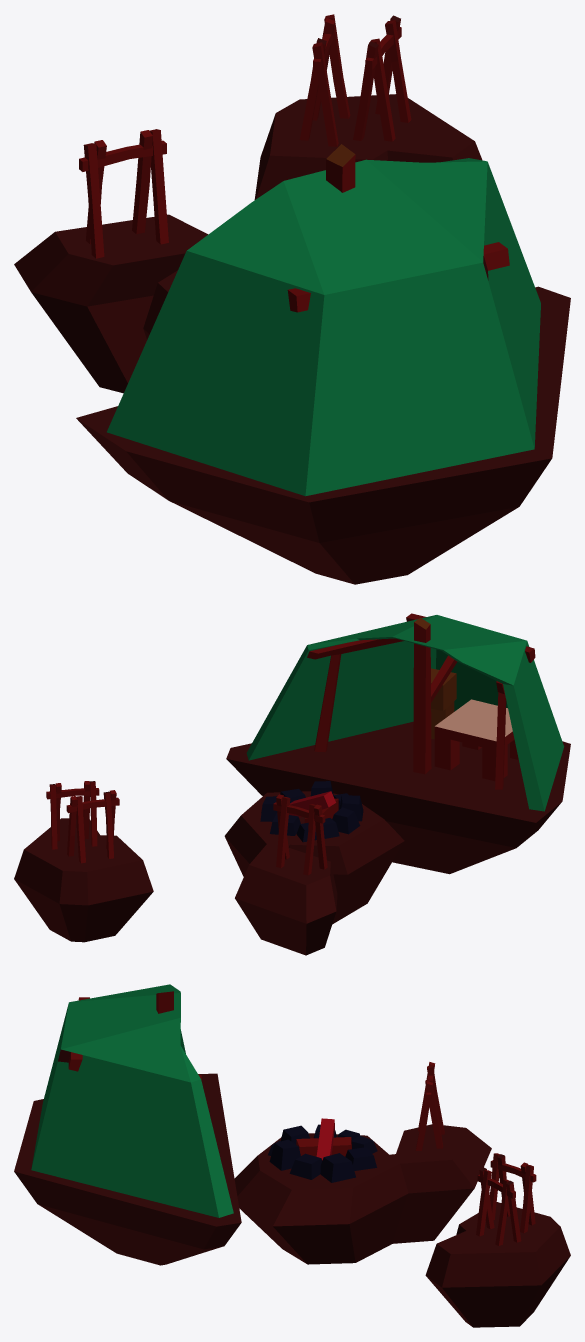
Rendered from leatherworker.glb.
The picture shows the model from 3 angles, top to bottom: view 1: azimuth 30°, elevation 25°; view 2: azimuth 150°, elevation 25°; view 3: azimuth 270°, elevation 25°; orthographic projection. The views are drawn at different scales.
Visible parts, largest first — view 1: Cube.002; view 2: Cube.002; view 3: Cube.002.
Boxes of the visible parts, box(x1,y1,x2,y2) form: Cube.002: box(14, 14, 570, 584); Cube.002: box(14, 613, 570, 955); Cube.002: box(14, 984, 570, 1327).
Size of the model in its own units: 11.54 by 7.47 by 14.74.
Materials: 1 (1 with a texture image).
